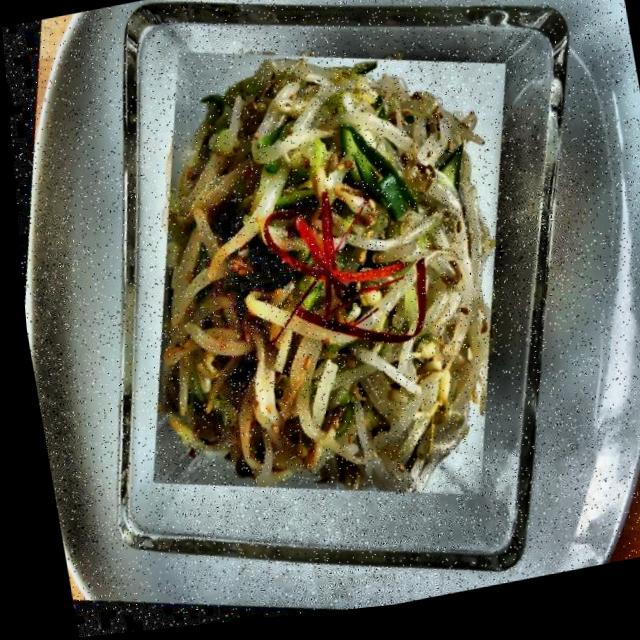Food: (78, 0, 569, 562)
